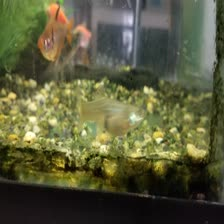Guppy: (72, 86, 156, 135)
Transparente: (26, 5, 78, 63)
